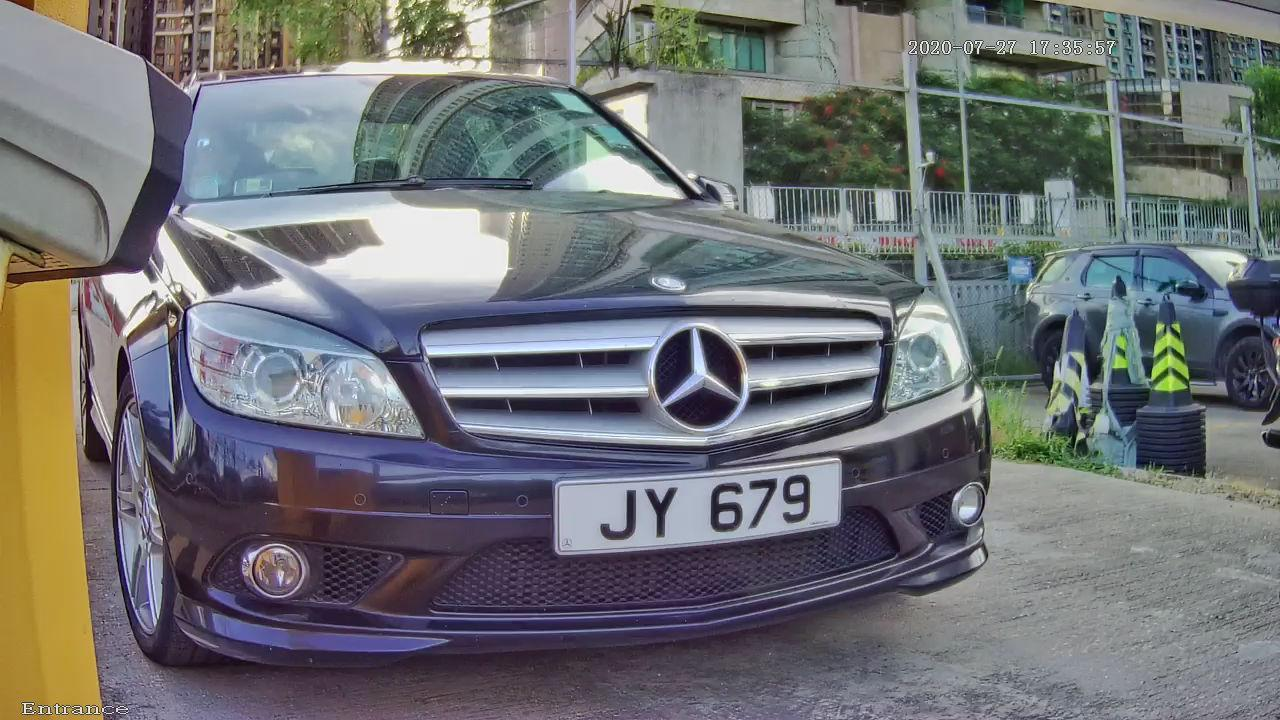privatecar: (63, 26, 1092, 676)
